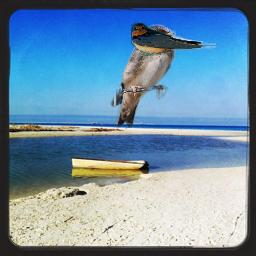Swallow: (110, 24, 176, 128), (129, 21, 216, 56)
